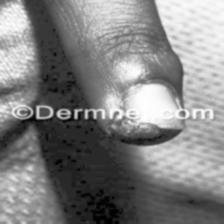Potentially Malignant Skin Tumors: (111, 93, 167, 144)
